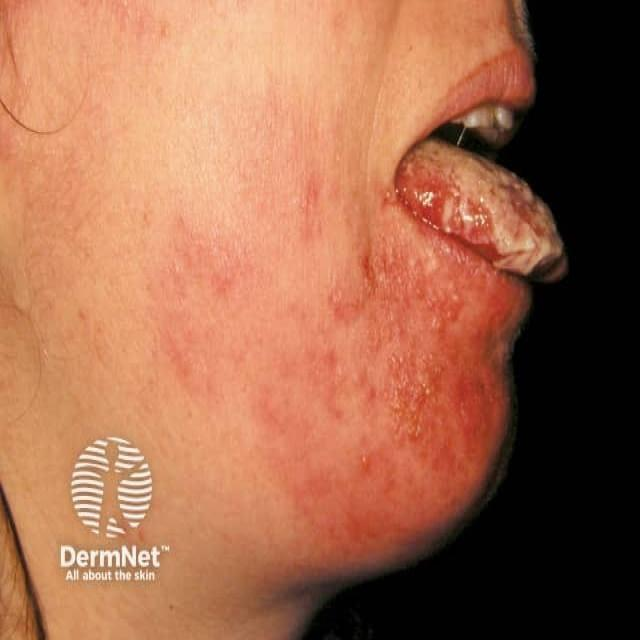Shingles: (142, 210, 508, 531)
